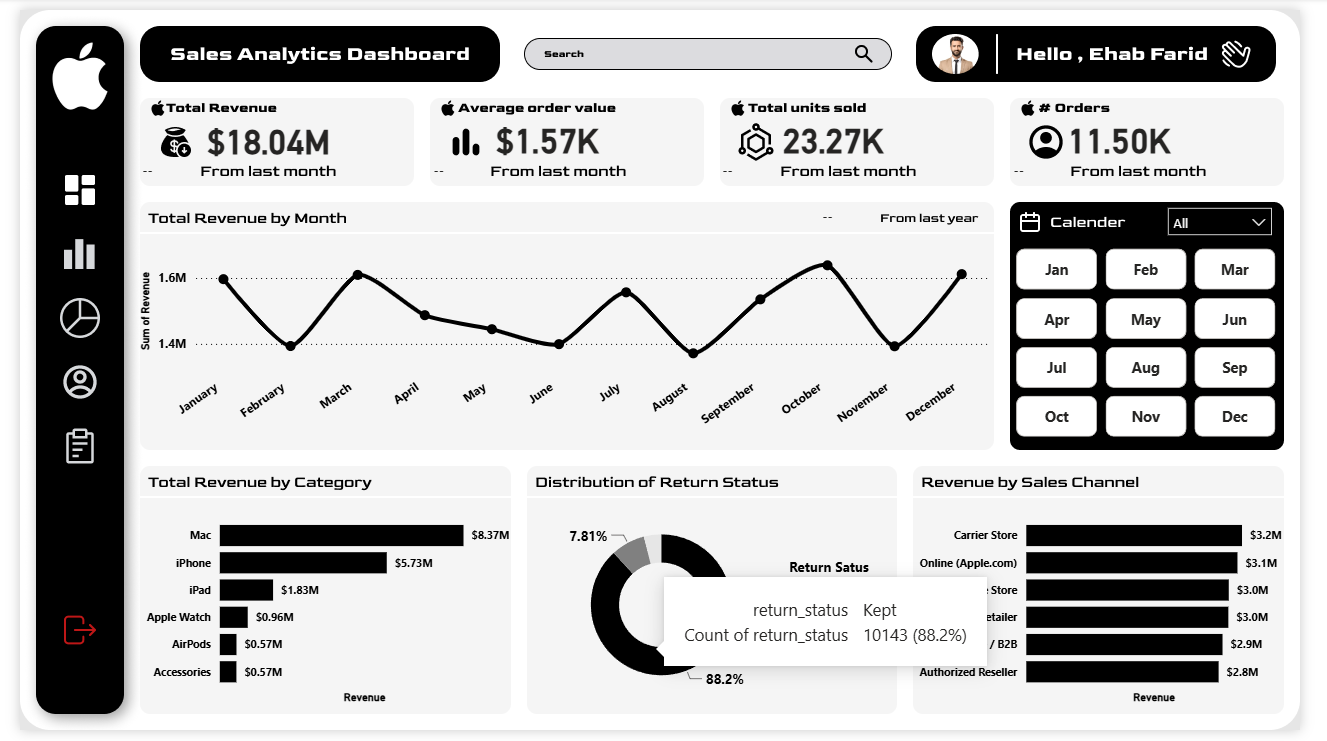

This screenshot's page, from the dashboard's own definition file:
{"tool":"powerbi","page":{"name":"KPIs","canvas":[1280,720],"ordinal":0},"visuals":[{"type":"lineChart","fields":{"Category":["Date Dim.Month Name"],"Y":["Sum(Fact.revenue_usd)"]},"box":[115,221.2,858.8,213.8],"z":0},{"type":"slicer","fields":{"Values":["Date Dim.Year"]},"box":[1138,187,124,46],"z":1000},{"type":"cardVisual","fields":{"Data":["Filters.AOV PM Growth KPI Filtered"]},"box":[402.5,145,85,28.8],"z":2000},{"type":"cardVisual","fields":{"Data":["Filters.Revenue PM Growth KPI Filtered"]},"box":[111.8,145,85,29.1],"z":3000},{"type":"cardVisual","fields":{"Data":["Filters.TQS PM Growth KPI Filtered"]},"box":[691.2,145,85,28.8],"z":4000},{"type":"cardVisual","fields":{"Data":["Filters.# Sales PM Growth KPI Filtered"]},"box":[982.3,145.4,85.4,28.5],"z":5000},{"type":"card","fields":{"Values":["Measures (2).# Sales"]},"box":[1025,99.4,148.1,56.9],"z":6000},{"type":"card","fields":{"Values":["Measures (2).Total quantity sold"]},"box":[733.8,101.2,158.8,55],"z":7000},{"type":"card","fields":{"Values":["Measures (2).AOV"]},"box":[445,100,165,56.2],"z":8000},{"type":"card","fields":{"Values":["Measures (2).Revenue"]},"box":[140,101.2,217.5,56.2],"z":9000},{"type":"barChart","fields":{"Category":["Dim Product.category"],"Y":["Measures (2).Revenue"]},"box":[119.4,491.2,374.7,207.6],"z":10000},{"type":"advancedSlicerVisual","fields":{"Values":["Date Dim.Short Month"]},"box":[991.2,233.8,270,201.2],"z":11000},{"type":"donutChart","fields":{"Category":["Fact.return_status"],"Y":["CountNonNull(Fact.return_status)"]},"box":[508.8,491.2,367.5,207.5],"z":12000},{"type":"barChart","fields":{"Category":["Fact.sales_channel"],"Y":["Measures (2).Revenue"]},"box":[892.5,491.2,374.7,207.6],"z":13000},{"type":"cardVisual","fields":{"Data":["Filters.Revenue PY Growth KPI Filtered"]},"box":[791.2,187.5,85,35],"z":14000},{"type":"actionButton","box":[40,222.9,40,40],"z":15000},{"type":"actionButton","box":[40,286.7,40,41.9],"z":16000},{"type":"actionButton","box":[40,351.9,40,39],"z":17000}]}

Visuals, with their boxes in screenshot pixels (x1, y1, x2, y2), scaled from the page's 1280x720 canvas onto the 1327x741 screenshot:
lineChart - Date Dim.Month Name x Sum(Fact.revenue_usd): {"left": 119, "top": 228, "right": 1010, "bottom": 448}
slicer - Date Dim.Year: {"left": 1180, "top": 192, "right": 1308, "bottom": 240}
cardVisual - Filters.AOV PM Growth KPI Filtered: {"left": 417, "top": 149, "right": 505, "bottom": 179}
cardVisual - Filters.Revenue PM Growth KPI Filtered: {"left": 116, "top": 149, "right": 204, "bottom": 179}
cardVisual - Filters.TQS PM Growth KPI Filtered: {"left": 717, "top": 149, "right": 805, "bottom": 179}
cardVisual - Filters.# Sales PM Growth KPI Filtered: {"left": 1018, "top": 150, "right": 1107, "bottom": 179}
card - Measures (2).# Sales: {"left": 1063, "top": 102, "right": 1216, "bottom": 161}
card - Measures (2).Total quantity sold: {"left": 761, "top": 104, "right": 925, "bottom": 161}
card - Measures (2).AOV: {"left": 461, "top": 103, "right": 632, "bottom": 161}
card - Measures (2).Revenue: {"left": 145, "top": 104, "right": 371, "bottom": 162}
barChart - Dim Product.category x Measures (2).Revenue: {"left": 124, "top": 506, "right": 512, "bottom": 719}
advancedSlicerVisual - Date Dim.Short Month: {"left": 1028, "top": 241, "right": 1308, "bottom": 448}
donutChart - Fact.return_status x CountNonNull(Fact.return_status): {"left": 527, "top": 506, "right": 908, "bottom": 719}
barChart - Fact.sales_channel x Measures (2).Revenue: {"left": 925, "top": 506, "right": 1314, "bottom": 719}
cardVisual - Filters.Revenue PY Growth KPI Filtered: {"left": 820, "top": 193, "right": 908, "bottom": 229}
actionButton: {"left": 41, "top": 229, "right": 83, "bottom": 271}
actionButton: {"left": 41, "top": 295, "right": 83, "bottom": 338}
actionButton: {"left": 41, "top": 362, "right": 83, "bottom": 402}
